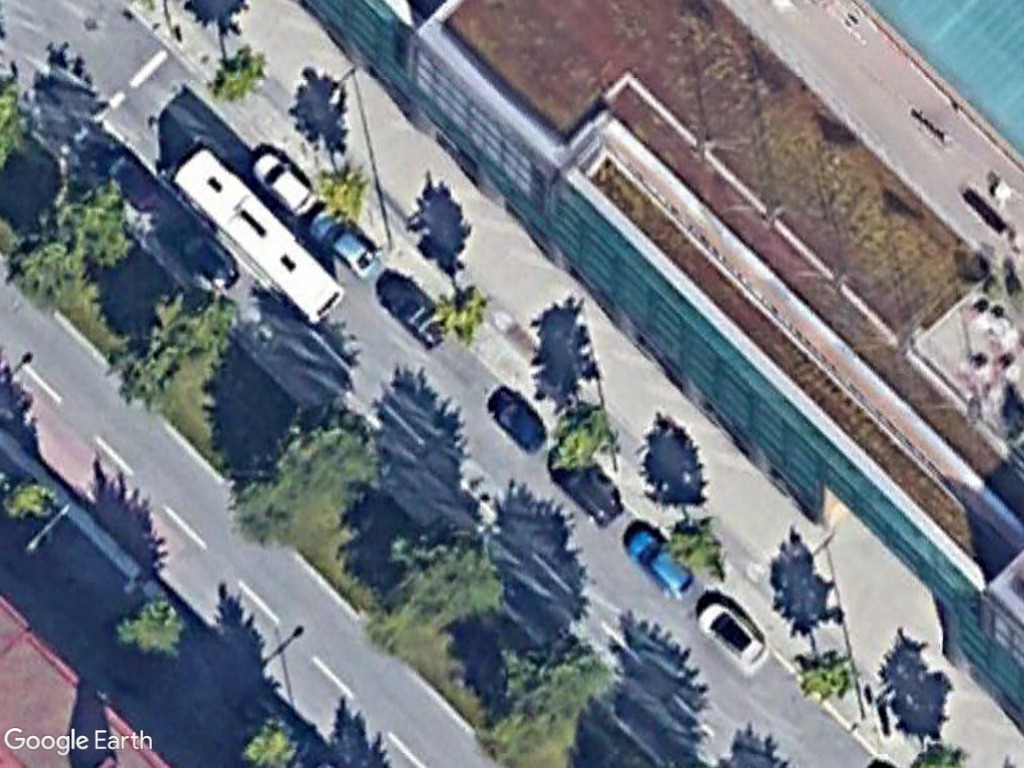bus: (167, 141, 347, 328)
car: (688, 593, 773, 680), (622, 520, 697, 607), (246, 144, 319, 222), (479, 381, 550, 458), (305, 209, 384, 277)
